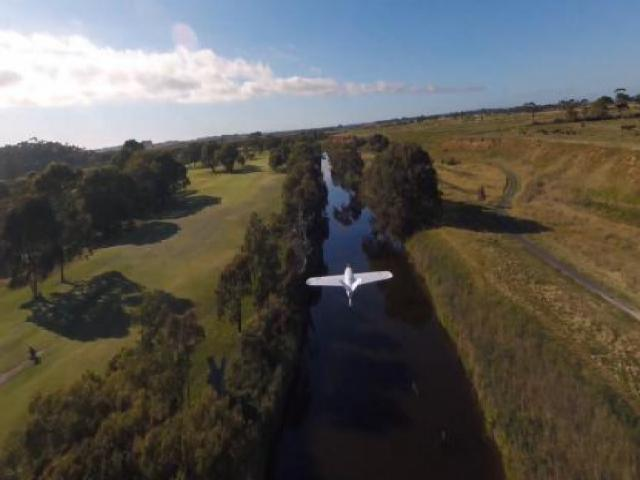uav: (301, 266, 394, 309)
